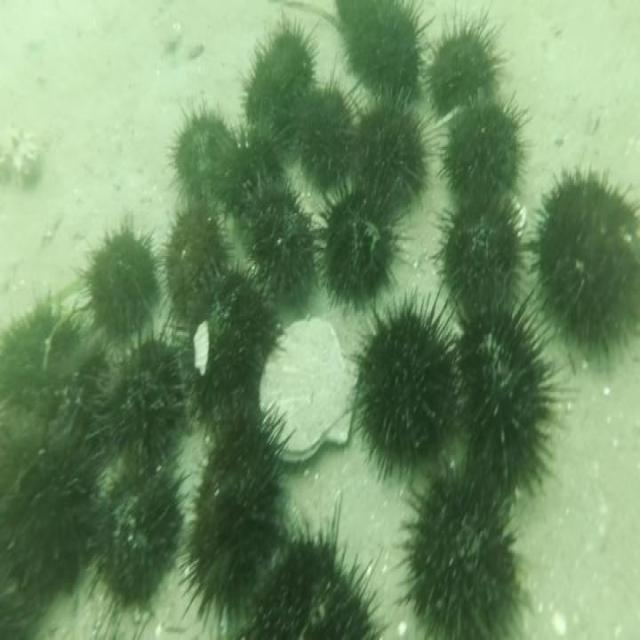echinus: (175, 392, 292, 637), (452, 295, 580, 509), (396, 452, 532, 640), (526, 164, 640, 368), (350, 288, 464, 487), (241, 498, 390, 640), (177, 252, 283, 442), (81, 461, 188, 637), (87, 326, 191, 487), (310, 163, 414, 319), (1, 453, 93, 607), (436, 185, 530, 330), (0, 292, 108, 414), (78, 202, 164, 351), (438, 87, 532, 212), (0, 391, 87, 526), (240, 172, 322, 314), (349, 82, 433, 218), (153, 199, 233, 330), (236, 13, 321, 134), (424, 5, 506, 123), (291, 61, 364, 192), (343, 0, 429, 103), (166, 93, 241, 210), (209, 122, 287, 220), (0, 548, 36, 639), (332, 0, 382, 41)
holothurian: (0, 118, 44, 192)
scallop: (259, 308, 361, 474)
